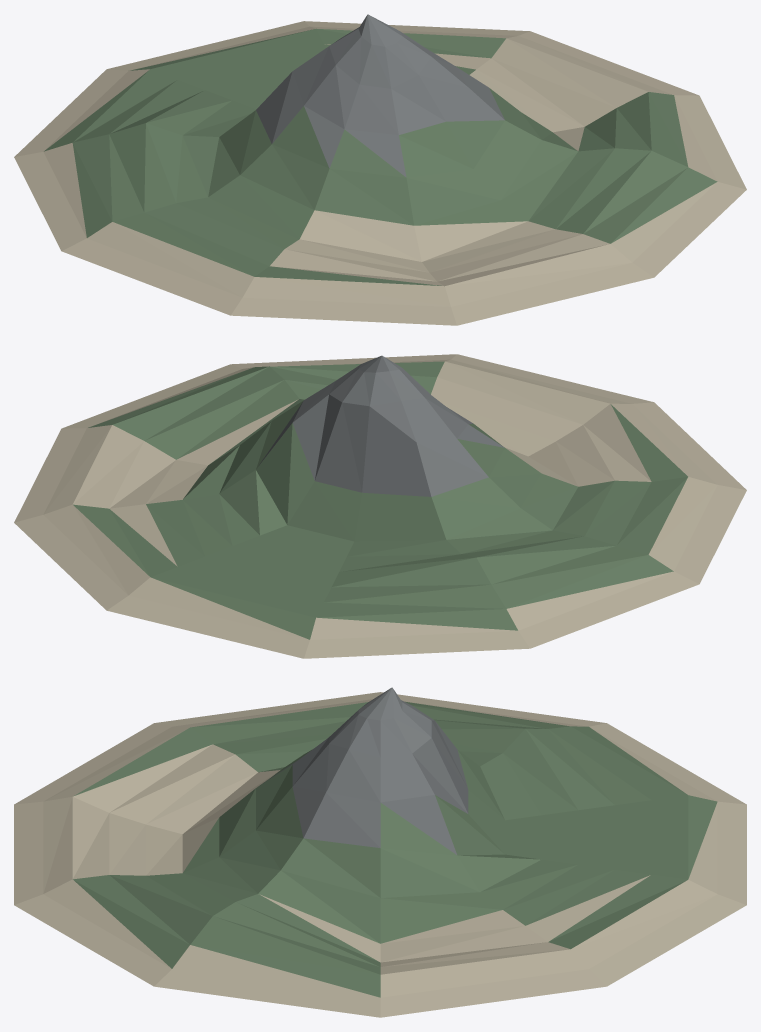
File: freeport_lod1.glb
3 renders of one model, top to bottom at view 1: azimuth 30°, elevation 25°; view 2: azimuth 150°, elevation 25°; view 3: azimuth 270°, elevation 25°, orthographic. The views are drawn at different scales.
Bounding box in the file's own units: 2 × 0.5096 × 1.9.
